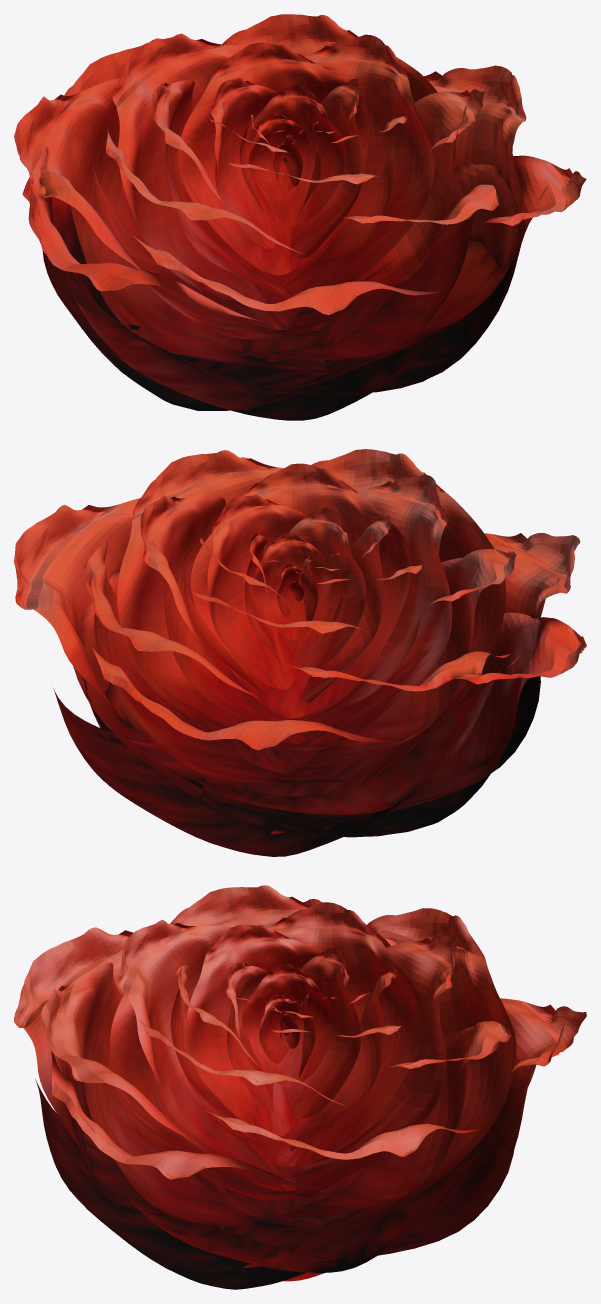
File: flower.glb
The picture shows the model from 3 angles, top to bottom: view 1: azimuth 30°, elevation 25°; view 2: azimuth 150°, elevation 25°; view 3: azimuth 270°, elevation 25°; orthographic projection.
Parts seen in each view (by area): view 1: NurbsPath.001; view 2: NurbsPath.001; view 3: NurbsPath.001.
Part boxes in pixels (x1,y1,x2,y2): NurbsPath.001: (14, 14, 586, 420); NurbsPath.001: (14, 449, 586, 856); NurbsPath.001: (14, 885, 586, 1289).
Size of the model in its own units: 4.18 by 2.33 by 4.09.
